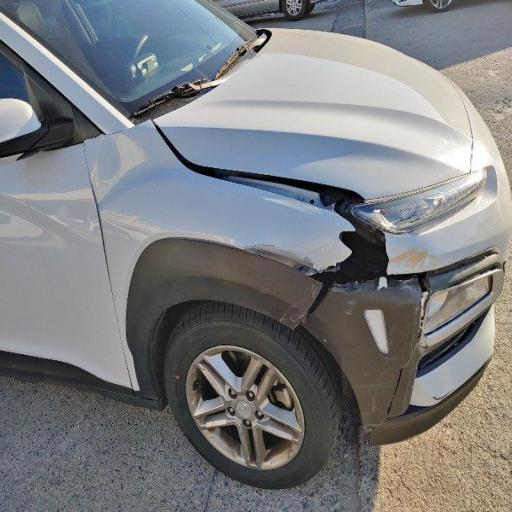broken: (182, 128, 408, 340)
scratch: (49, 184, 175, 281), (349, 300, 409, 372), (393, 240, 445, 278)
